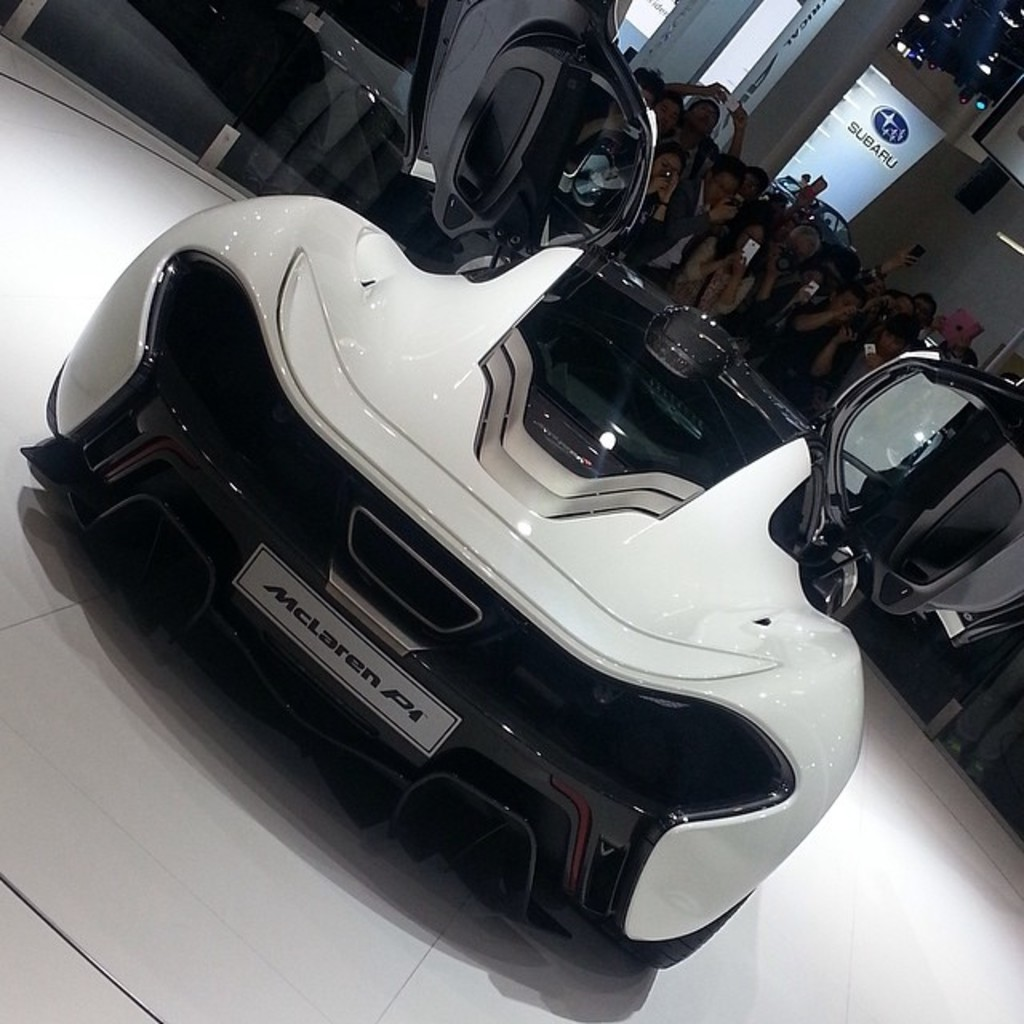Car: (39, 70, 960, 974)
